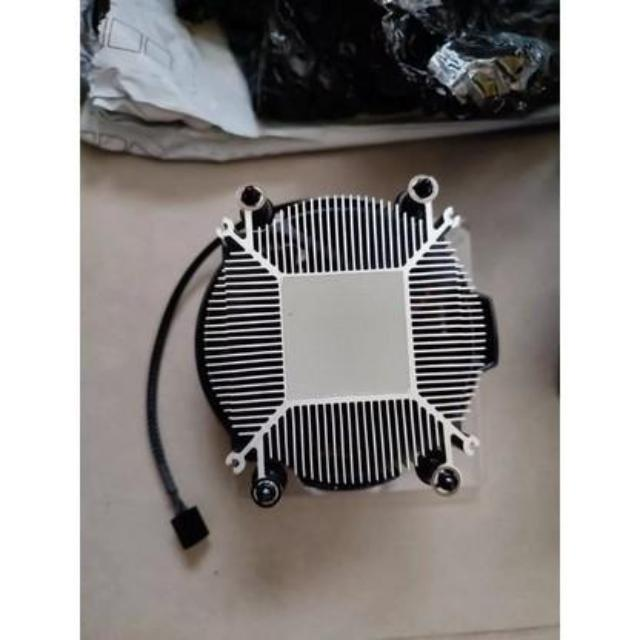CPU_Fan: (210, 187, 478, 510)
